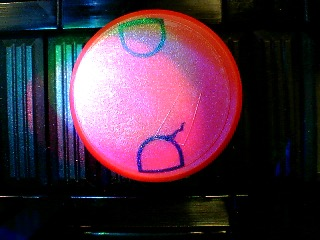CRACK: (68, 9, 243, 183)
